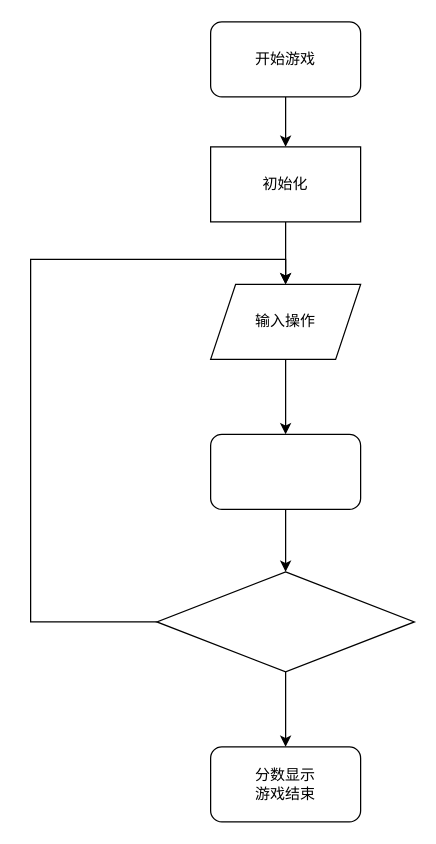
This 436x844 diagram has some shape labels left out. Each missing label, with the centre of its shape:
判断是否结束: pixel 285 621
对应改变刷新: pixel 285 471
